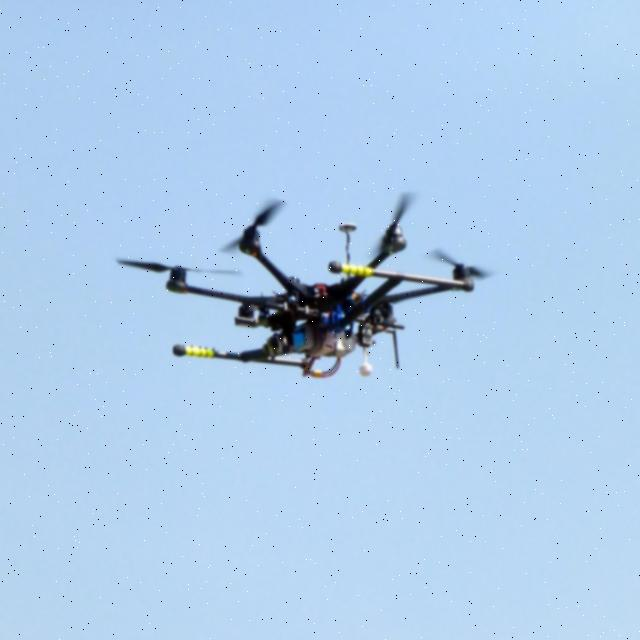UAV: (165, 203, 478, 381)
